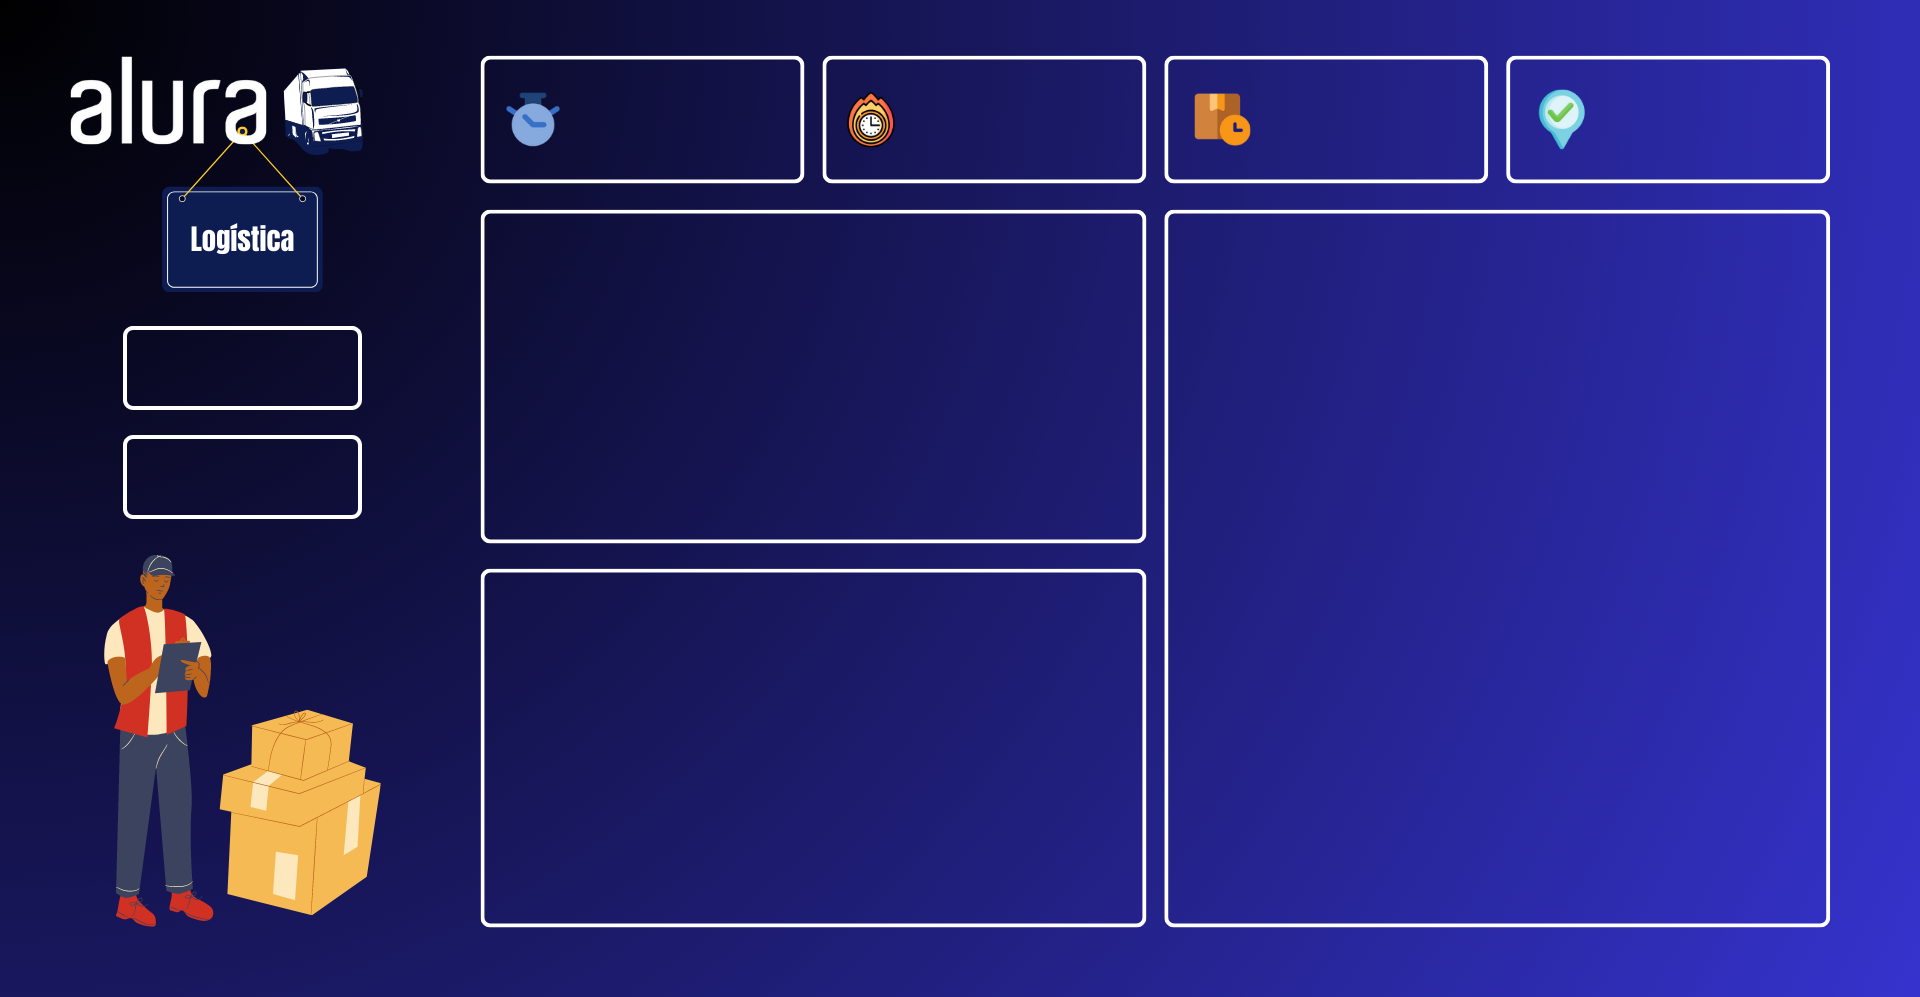

What the dashboard file says about the page in this screenshot:
{"tool":"powerbi","page":{"name":"Logística","canvas":[1280,720],"ordinal":0},"visuals":[{"type":"card","fields":{"Values":["Medidas.Atrasados"]},"box":[615.5,33.6,154.5,88.2],"z":0},{"type":"card","fields":{"Values":["Medidas.No Prazo"]},"box":[364.5,38.2,171.8,80],"z":1000},{"type":"card","fields":{"Values":["Medidas.Total de Pedidos"]},"box":[1090.9,35.5,160,82.7],"z":2000},{"type":"card","fields":{"Values":["Medidas.Entregues"]},"box":[852.7,35.5,159.1,85.5],"z":3000},{"type":"map","fields":{"Category":["Pedidos.UF da entrega","Pedidos.Latitude","Pedidos.Longitude"],"Size":["Sum(Pedidos.Quantidade)"],"Series":["Pedidos.País"]},"box":[812.7,191.8,457.3,474.5],"z":4000},{"type":"areaChart","fields":{"Category":["Pedidos.Data da compra.Variation.Hierarquia de datas.Mês"],"Y":["Avg(Pedidos.S2D)"]},"box":[326.4,199.1,446.4,181.8],"z":5000},{"type":"clusteredColumnChart","fields":{"Category":["Estoque.Data atualização.Variation.Hierarquia de datas.Ano"],"Y":["Avg(Estoque.Quantidade)"]},"box":[331.3,471.9,437.9,194.3],"z":6000},{"type":"actionButton","box":[62.7,331.8,156.4,49.1],"z":7000}]}

Visuals, with their boxes on the page's 1280x720 design canvas (x1, y1, x2, y2). These are canvas units, not pixel positions in the 1920x997 screenshot, which may show the page scaled, cropped or inside an application window:
card - Medidas.Atrasados: locate(616, 34, 770, 122)
card - Medidas.No Prazo: locate(364, 38, 536, 118)
card - Medidas.Total de Pedidos: locate(1091, 36, 1251, 118)
card - Medidas.Entregues: locate(853, 36, 1012, 121)
map - Pedidos.UF da entrega x Pedidos.Latitude: locate(813, 192, 1270, 666)
areaChart - Pedidos.Data da compra.Variation.Hierarquia de datas.Mês x Avg(Pedidos.S2D): locate(326, 199, 773, 381)
clusteredColumnChart - Estoque.Data atualização.Variation.Hierarquia de datas.Ano x Avg(Estoque.Quantidade): locate(331, 472, 769, 666)
actionButton: locate(63, 332, 219, 381)
